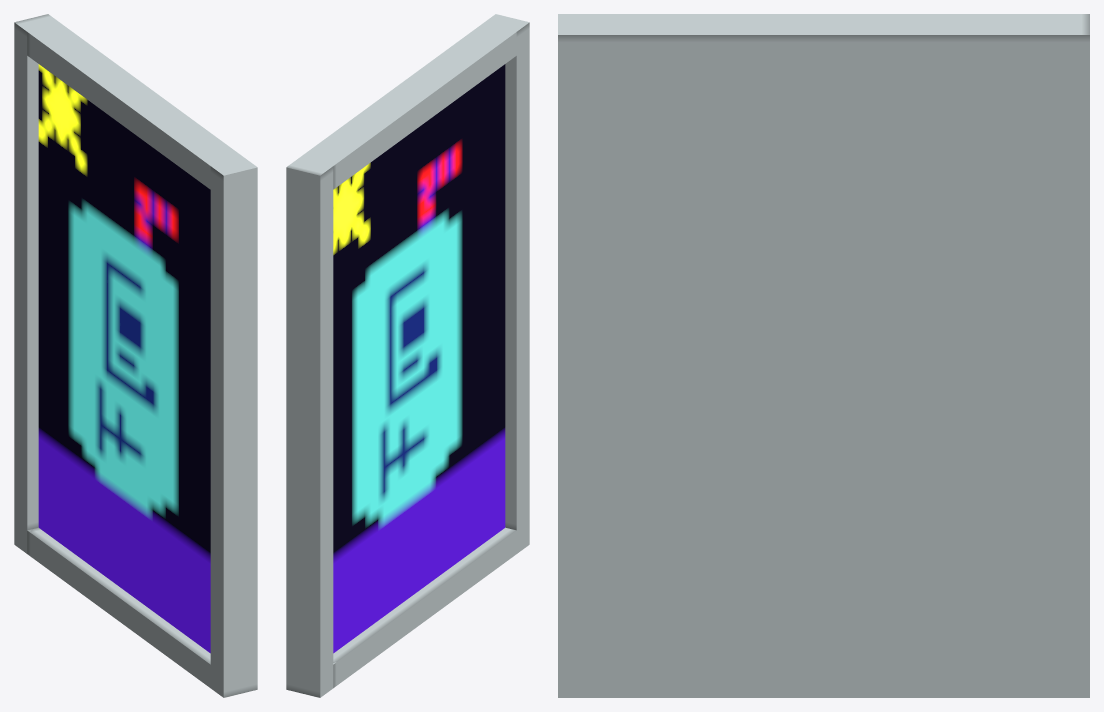
Rendered from neon _ex.dae.
The picture shows the model from 3 angles, left to right: view 1: azimuth 30°, elevation 25°; view 2: azimuth 150°, elevation 25°; view 3: azimuth 270°, elevation 25°; orthographic projection. The views are drawn at different scales.
Parts seen in each view (by area): view 1: Content; view 2: Content; view 3: Content.
Part boxes in pixels (left/top/right/bottom): Content: left=14, top=14, right=257, bottom=697; Content: left=286, top=14, right=529, bottom=697; Content: left=558, top=14, right=1089, bottom=697.
Bounding box in the file's own units: 3 × 44 × 32.
1 material, 1 textured.
